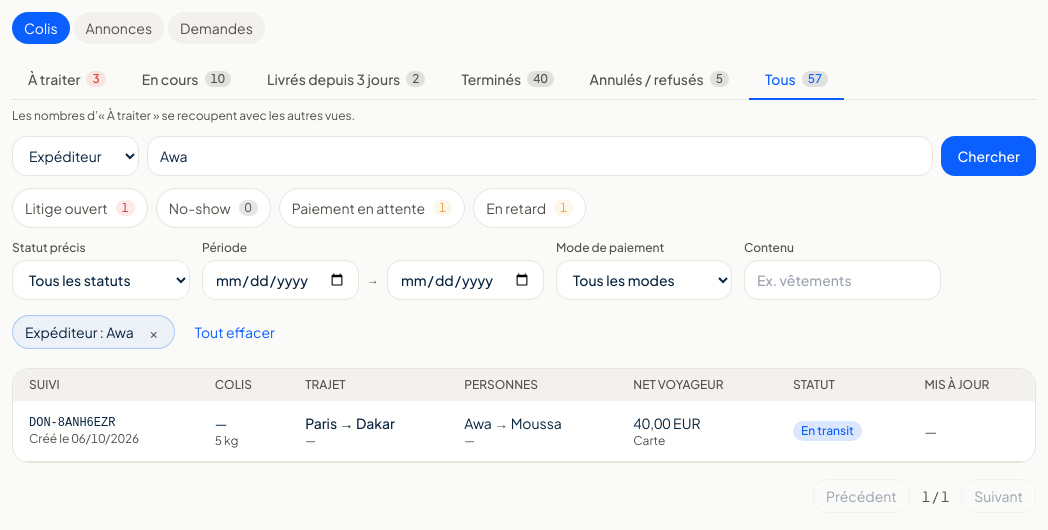
it: /colis : vues rapides et recherche › removeChip_reloads
Expected: the element with test id "active-chip-search" shows "Expéditeur : Awa", [25,323,134,341]
Click the button with test id "active-chip-search-remove": (154, 332) [138,316,170,348]
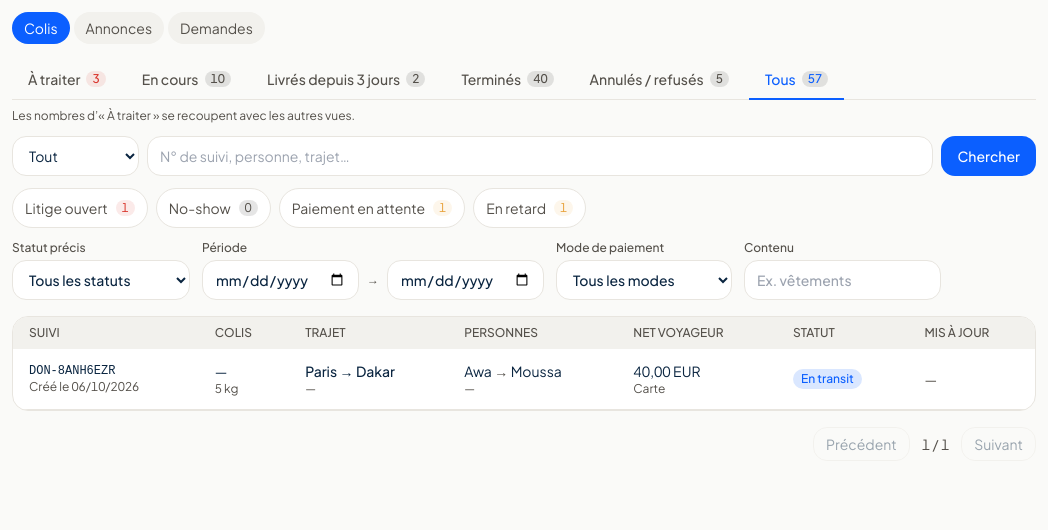
Now the dropdown with test id "search" is empty, box [147,136,933,176]
